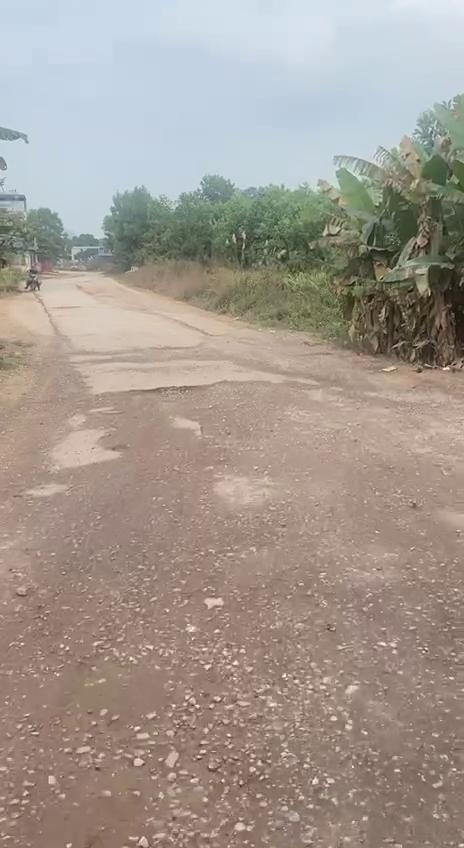pothole: (0, 638, 184, 848)
